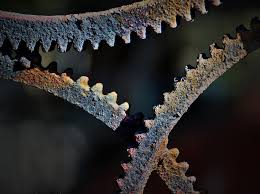rust: (102, 90, 183, 192), (111, 2, 230, 35), (9, 11, 112, 46), (9, 56, 75, 98), (206, 21, 257, 71)
